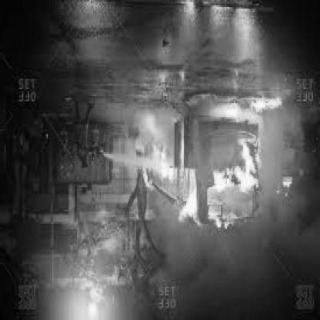Fire: (108, 82, 312, 245)
other: (80, 297, 107, 320)
